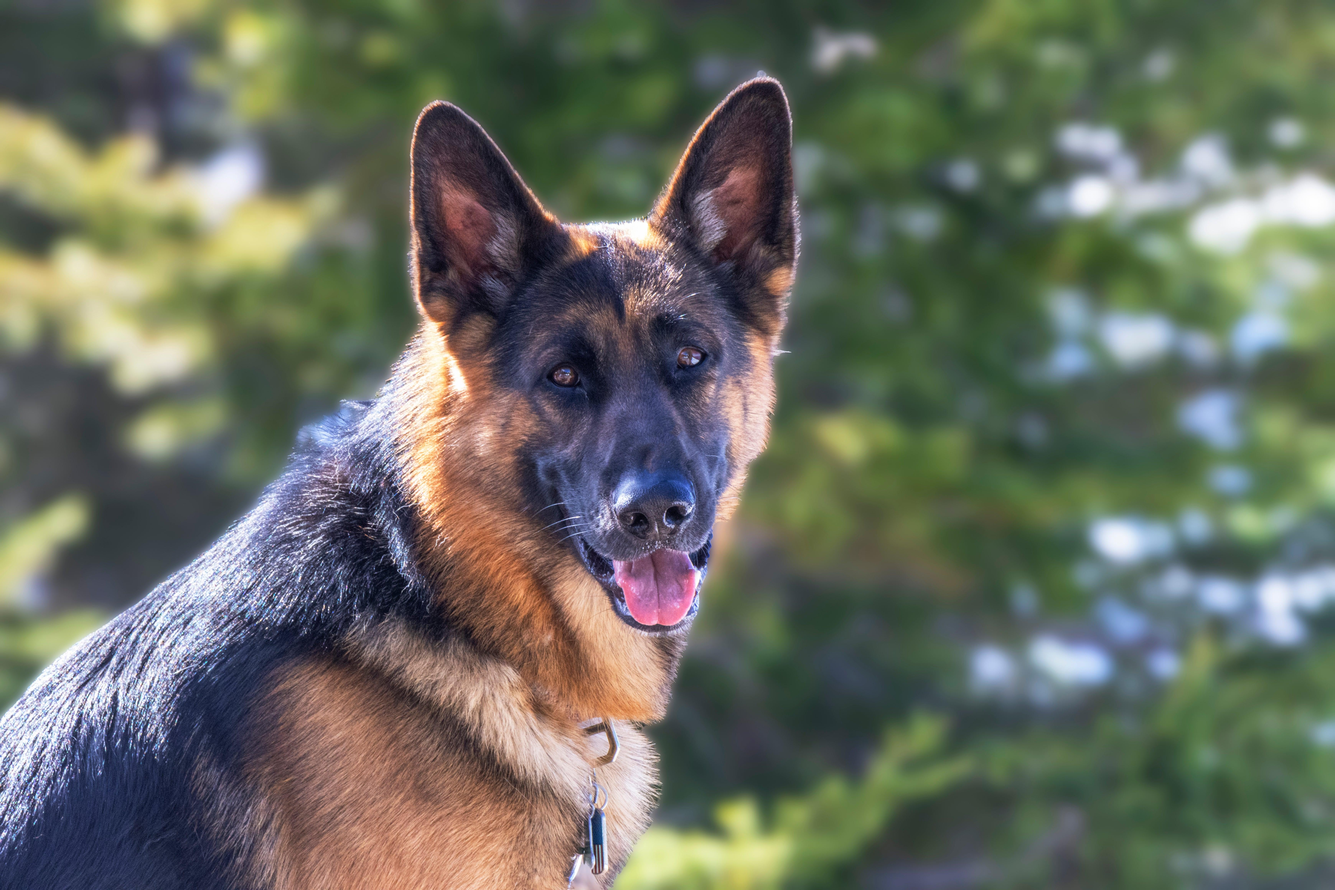german_shepherd: (363, 129, 867, 633)
